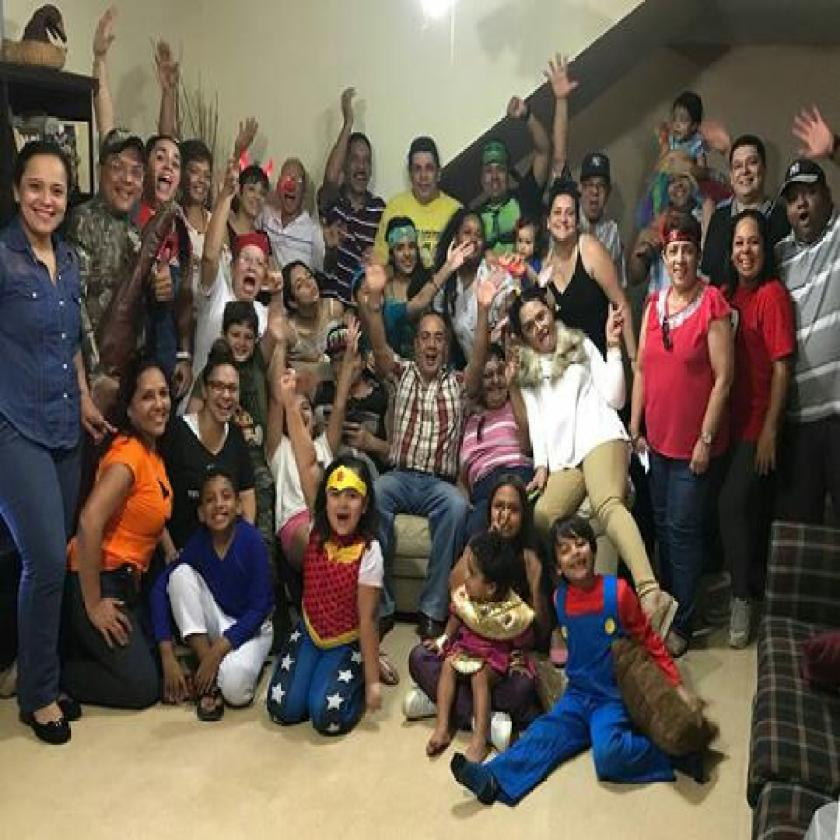Sin_casco: (8, 138, 77, 253), (116, 357, 175, 461), (191, 359, 250, 436), (547, 514, 604, 590), (462, 534, 514, 612), (514, 291, 564, 366), (728, 206, 774, 286), (198, 468, 241, 546), (485, 464, 530, 538), (143, 136, 183, 217), (282, 249, 324, 325), (178, 129, 215, 215), (447, 208, 495, 274), (226, 236, 268, 310), (276, 157, 313, 236), (413, 310, 454, 380), (402, 135, 446, 200), (474, 344, 516, 412), (342, 127, 377, 208), (548, 180, 585, 254), (727, 132, 764, 206), (220, 307, 262, 371), (235, 163, 270, 229), (670, 90, 707, 140), (510, 213, 544, 265)
